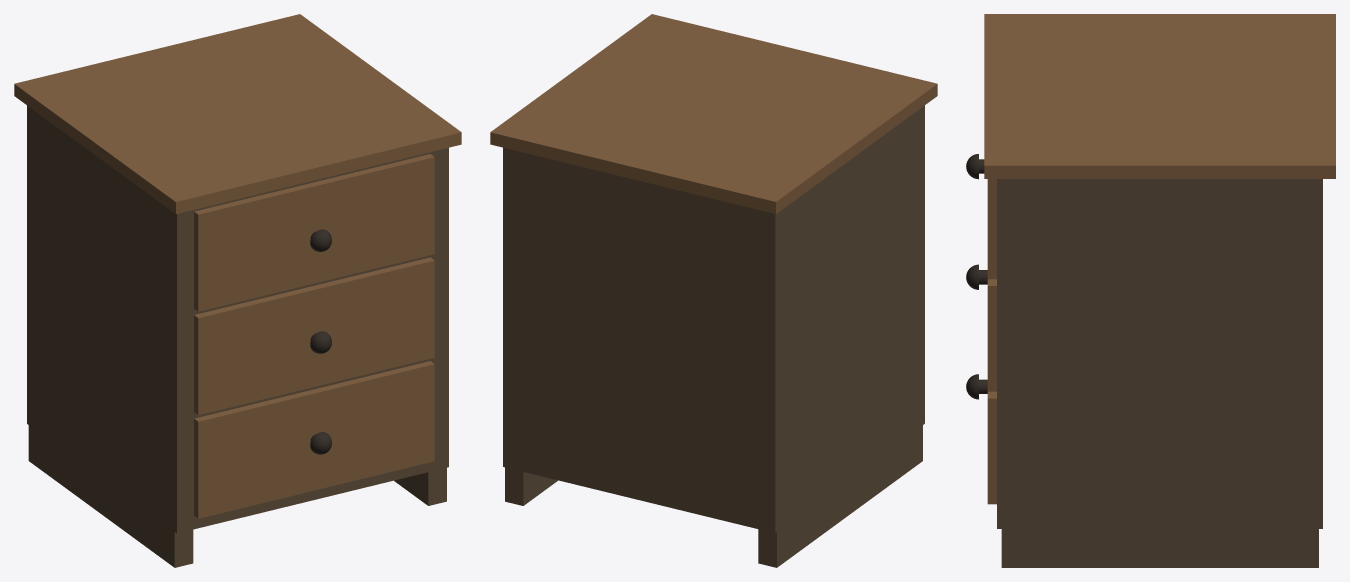
File: laci kecil.fbx
The picture shows the model from 3 angles, left to right: view 1: azimuth 30°, elevation 25°; view 2: azimuth 150°, elevation 25°; view 3: azimuth 270°, elevation 25°; orthographic projection. The views are drawn at different scales.
Visible parts, largest first — view 1: Cube, Cube.001, Cube.003, Cube.002, Cube.004; view 2: Cube, Cube.001; view 3: Cube, Cube.001, Cube.004, Cube.003, Cube.002.
Part boxes in pixels (x1=…): Cube: x1=27, y1=105, x2=448, y2=567; Cube.001: x1=14, y1=14, x2=461, y2=213; Cube.003: x1=194, y1=257, x2=434, y2=415; Cube.002: x1=194, y1=154, x2=434, y2=311; Cube.004: x1=194, y1=361, x2=434, y2=518; Cube: x1=503, y1=105, x2=924, y2=567; Cube.001: x1=490, y1=14, x2=937, y2=213; Cube: x1=997, y1=179, x2=1322, y2=567; Cube.001: x1=984, y1=14, x2=1335, y2=178; Cube.004: x1=987, y1=391, x2=996, y2=504; Cube.003: x1=987, y1=279, x2=996, y2=391; Cube.002: x1=987, y1=179, x2=996, y2=279.
Size of the model in its own units: 141 by 176 by 145.
